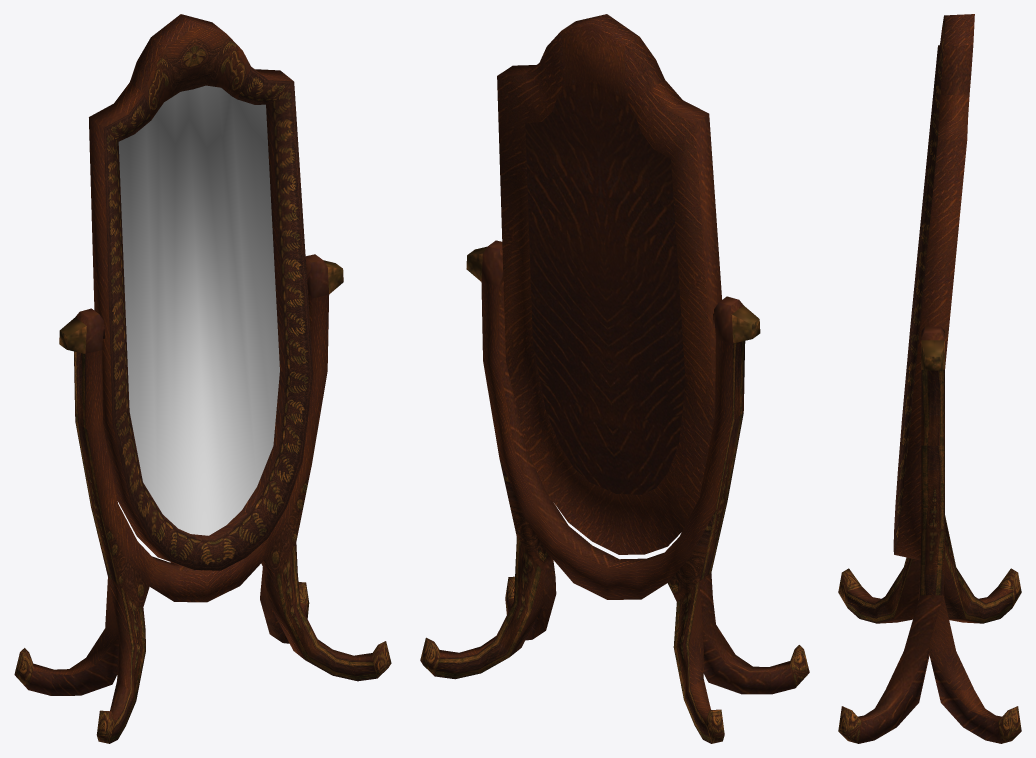
The model's file is Mirror_Full_Length.fbx.
3 views of the same model, side by side, from view 1: azimuth 30°, elevation 25°; view 2: azimuth 150°, elevation 25°; view 3: azimuth 270°, elevation 25° (orthographic). The views are drawn at different scales.
Visible parts, largest first — view 1: Mirror_Full_length; view 2: Mirror_Full_length; view 3: Mirror_Full_length.
Boxes of the visible parts, x1,y1,x2,y2 form: Mirror_Full_length: [14, 14, 391, 743]; Mirror_Full_length: [420, 14, 809, 743]; Mirror_Full_length: [838, 14, 1021, 743].
Bounding box in the file's own units: 109 × 232 × 58.07.
